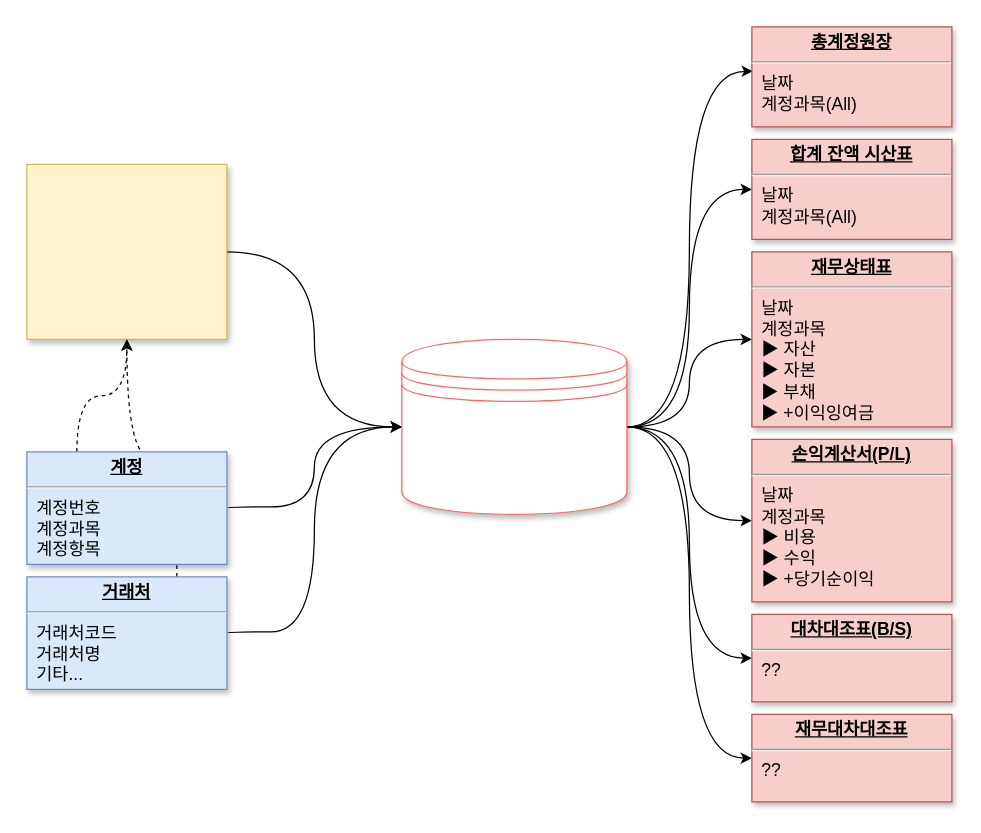
Image size: 981x833. Some labels were removed from this diagram. The centre of each missing label's shape, as x and y in pixels:
"DB" goes at pixel 515 428.
"전표 날짜 구분 계정과목 차/대변 거래처 기타" goes at pixel 127 253.
